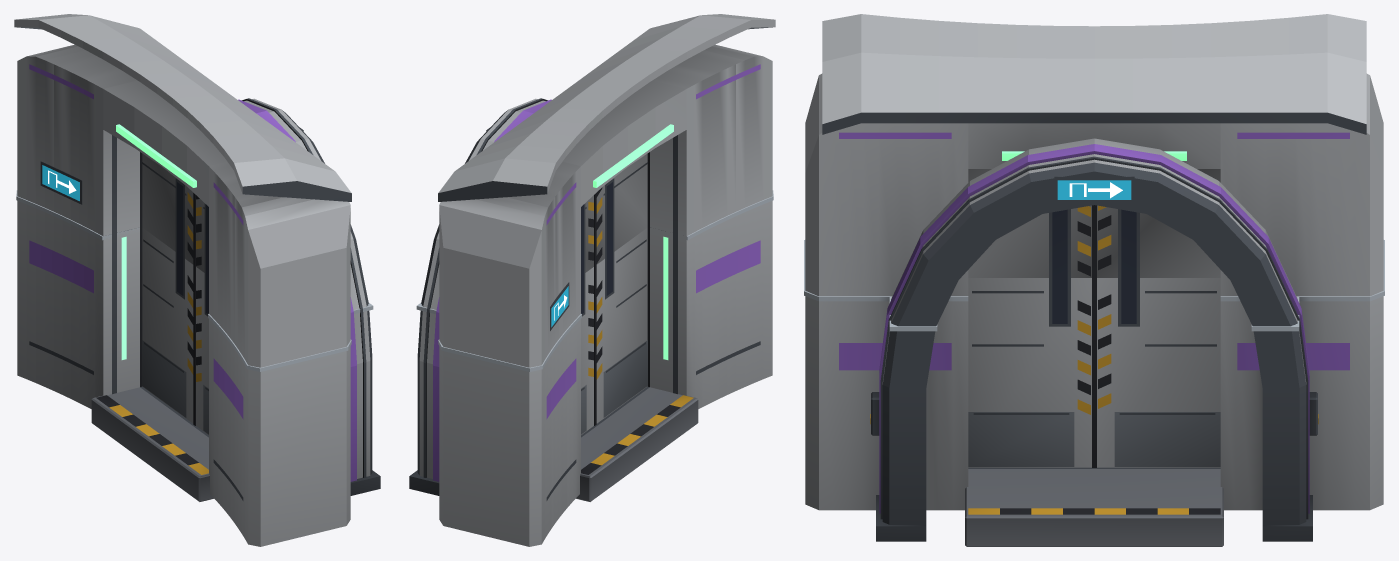
Rendered from doorway_r625.glb.
The picture shows the model from 3 angles, left to right: view 1: azimuth 30°, elevation 25°; view 2: azimuth 150°, elevation 25°; view 3: azimuth 270°, elevation 25°; orthographic projection. The views are drawn at different scales.
Parts seen in each view (by area): view 1: FrameTop, Frame, DoorR, DoorRTop, DoorL, FrameCap, Sign, DoorLTop, Status, Lights; view 2: FrameTop, Frame, DoorL, DoorLTop, DoorR, FrameCap, DoorRTop, Status, Lights, Sign; view 3: FrameTop, Frame, DoorL, DoorR, DoorLTop, DoorRTop, FrameCap, Sign.
Boxes of the visible parts, box(x1,y1,x2,y2) form: FrameTop: box(14, 14, 368, 367); Frame: box(17, 201, 380, 546); DoorR: box(142, 228, 194, 424); DoorRTop: box(142, 153, 194, 265); DoorL: box(194, 266, 208, 434); FrameCap: box(16, 190, 373, 371); Sign: box(40, 128, 303, 204); DoorLTop: box(194, 194, 208, 276); Status: box(116, 124, 196, 187); Lights: box(121, 236, 126, 359); FrameTop: box(421, 14, 775, 367); Frame: box(409, 201, 772, 546); DoorL: box(595, 228, 647, 424); DoorLTop: box(595, 153, 647, 265); DoorR: box(581, 266, 595, 434); FrameCap: box(416, 190, 773, 371); DoorRTop: box(581, 194, 595, 276); Status: box(593, 124, 673, 187); Lights: box(663, 236, 668, 359); Sign: box(486, 128, 569, 330); FrameTop: box(805, 14, 1383, 326); Frame: box(805, 296, 1383, 546); DoorL: box(968, 278, 1094, 467); DoorR: box(1094, 278, 1220, 467); DoorLTop: box(968, 169, 1094, 278); DoorRTop: box(1094, 169, 1220, 278); FrameCap: box(804, 240, 1384, 331); Sign: box(1054, 176, 1134, 202).
Bounding box in the file's own units: 1.32 × 2.93 × 3.46.
